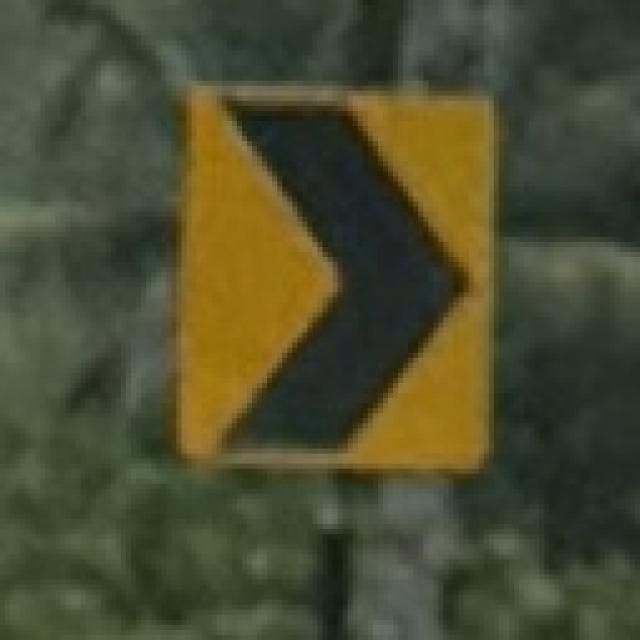TURN_RIGHT: (171, 79, 498, 482)
